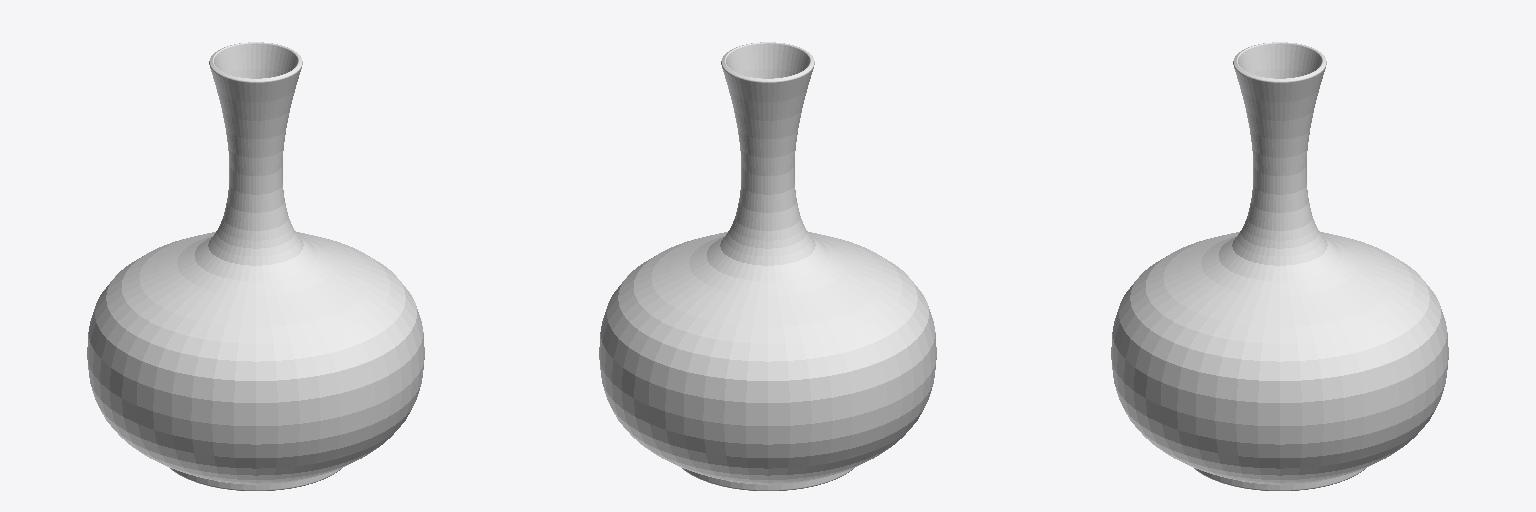
Rendered from Vase2.obj.
3 views of the same model, side by side, from view 1: azimuth 30°, elevation 25°; view 2: azimuth 150°, elevation 25°; view 3: azimuth 270°, elevation 25° (orthographic).
Visible parts, largest first — view 1: Line003; view 2: Line003; view 3: Line003.
Boxes of the visible parts, box(x1,y1,x2,y2) form: Line003: box(87, 42, 424, 490); Line003: box(599, 42, 936, 490); Line003: box(1111, 42, 1448, 490).
Bounding box in the file's own units: 16.52 × 21.09 × 16.52.